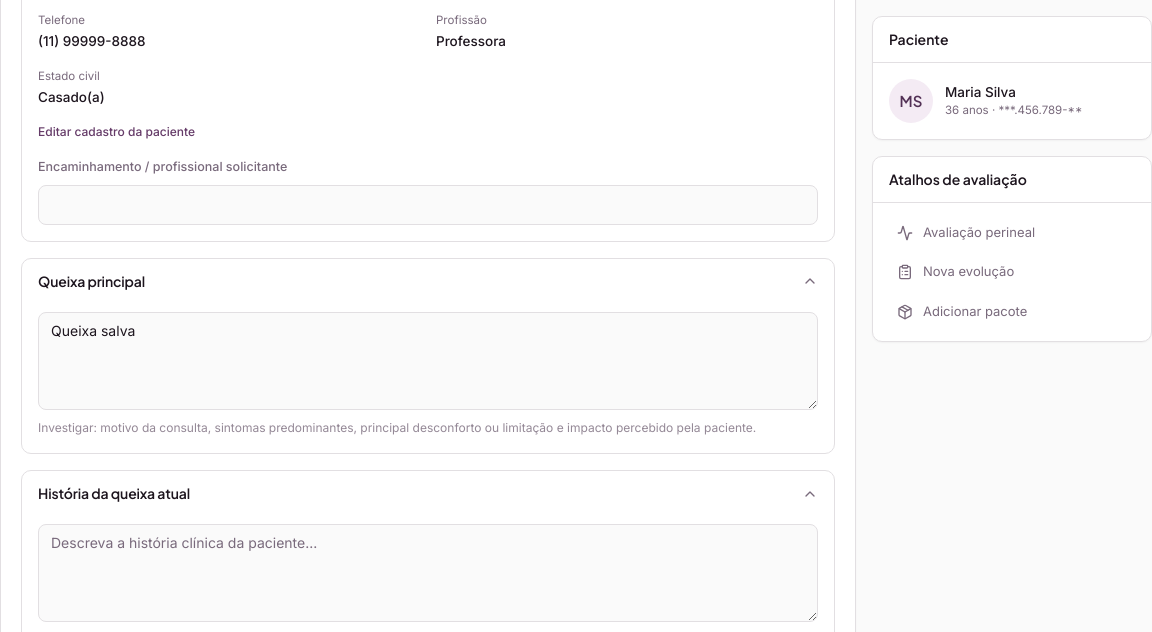
it: AnamnesisEditorPage › edições durante o salvamento › edição feita com o salvamento em andamento mantém "Alterações não salvas" e é salva depois
This screenshot has width=1152, height=632.
(page scrolled)
Replace the text in the text box named "Queixa principal" with "primeira" at [428, 361], box [38,312,818,410]
(page scrolled)
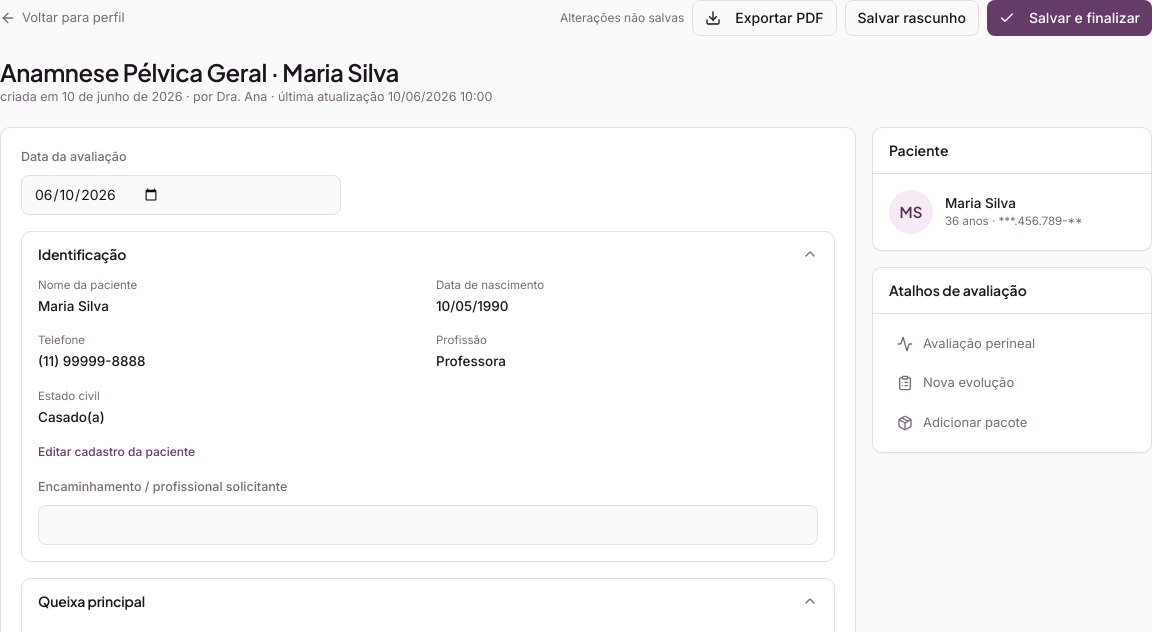
Click the button "Salvar rascunho" at [912, 18], box [845,0,979,36]
(page scrolled)
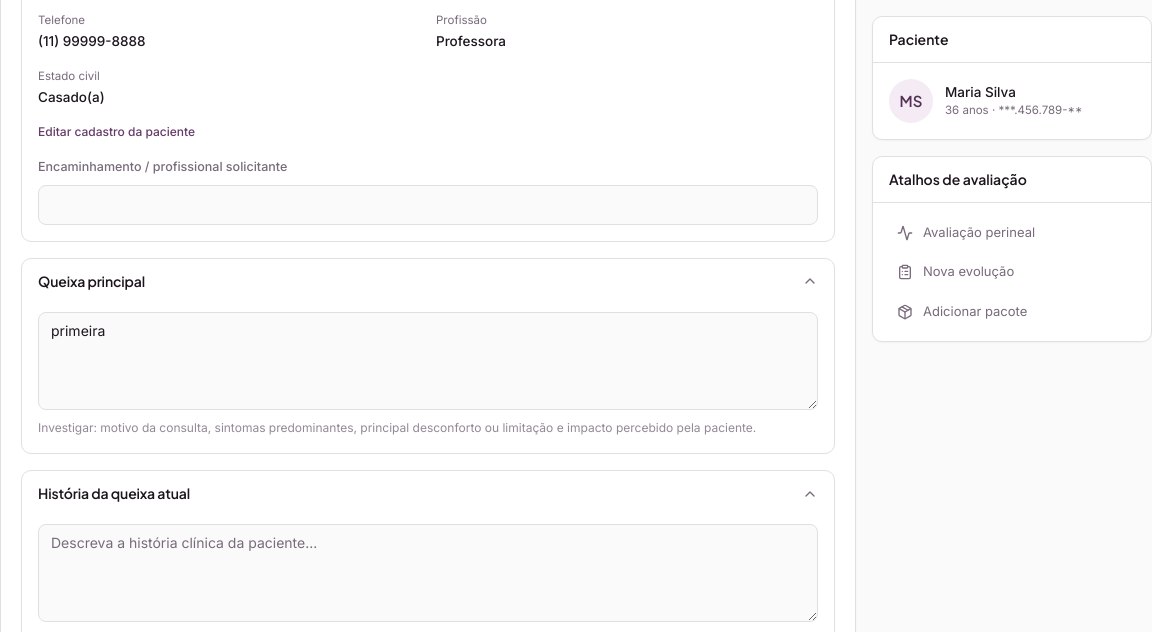
Replace the text in the text box named "Queixa principal" with "primeira e segunda" at [428, 361], box [38,312,818,410]
(page scrolled)
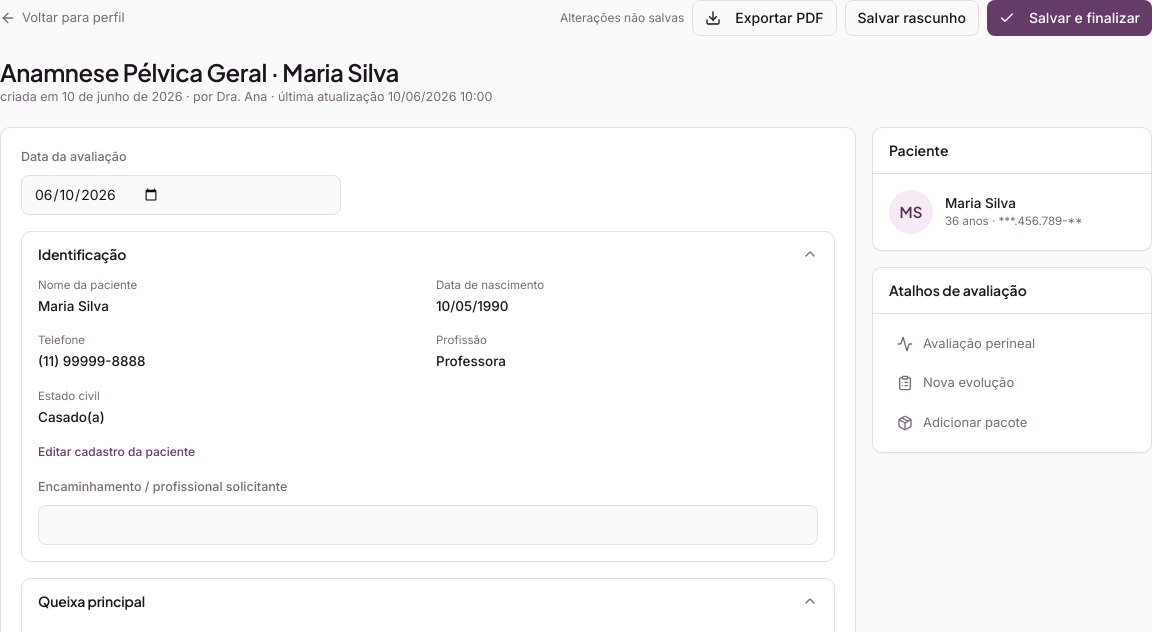
Expected: the text "Salvo às" is not shown
Result: the text "Alterações não salvas" is shown at [560,9,684,27]
Result: the button "Salvar rascunho" is enabled
Click the button "Salvar rascunho" at [912, 18], box [845,0,979,36]
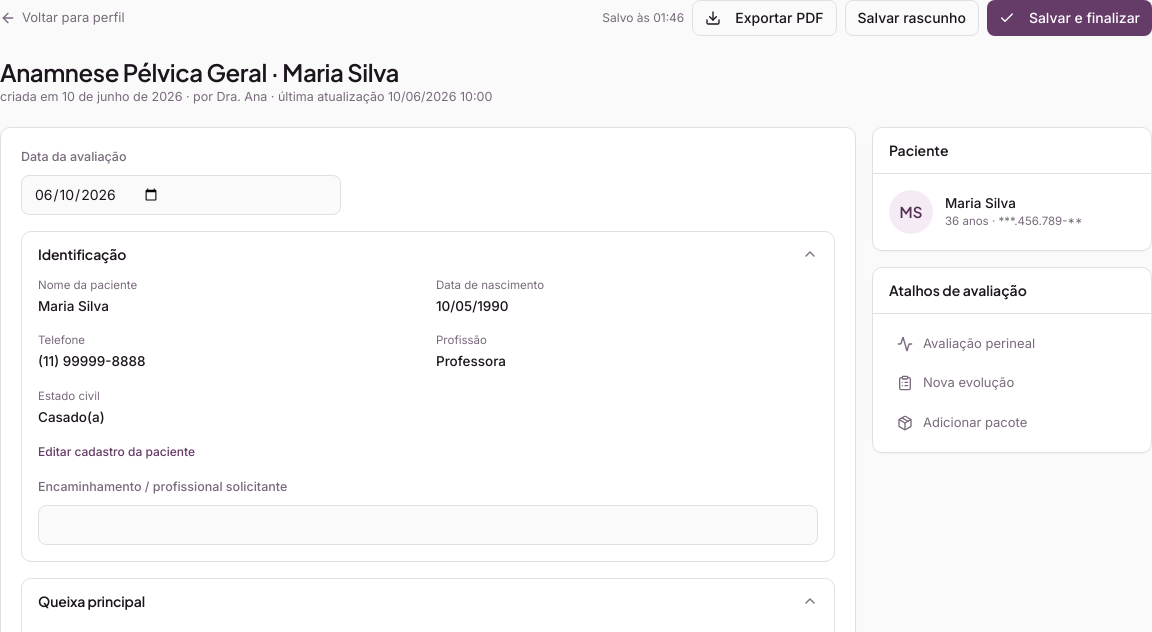
Result: the text "Salvo às 01:46" is shown at [602,9,684,27]
